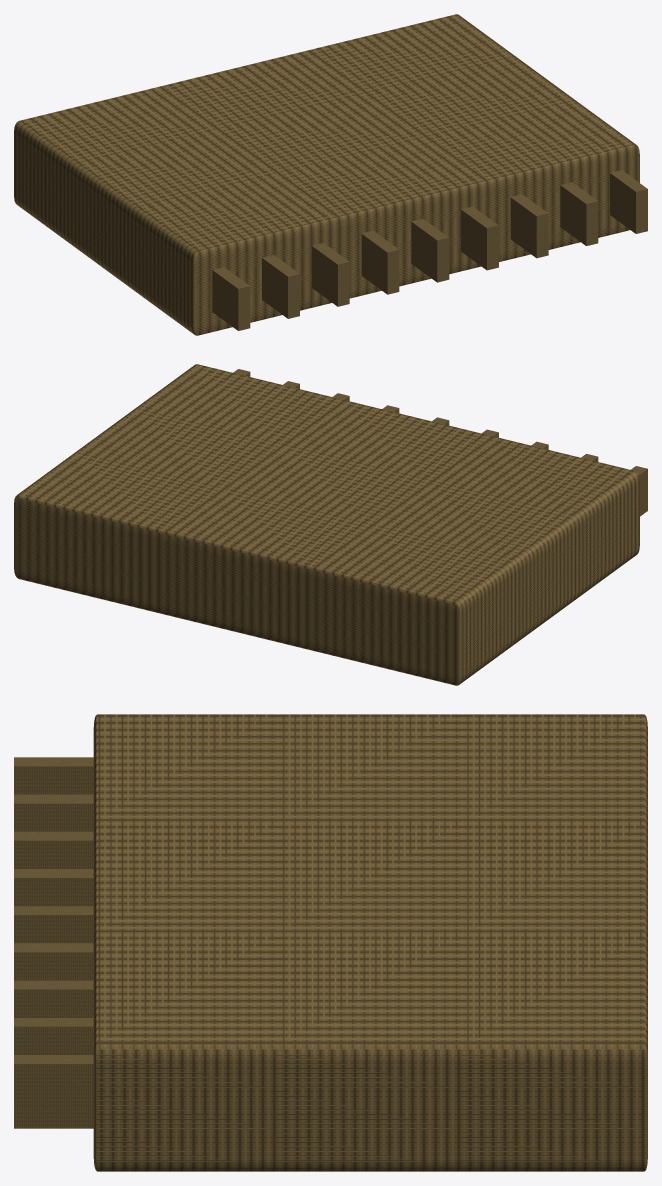
3 views of the same model, one above another, from view 1: azimuth 30°, elevation 25°; view 2: azimuth 150°, elevation 25°; view 3: azimuth 270°, elevation 25° (orthographic). The views are drawn at different scales.
Parts seen in each view (by area): view 1: d-towel; view 2: d-towel; view 3: d-towel.
Boxes of the visible parts, x1,y1,x2,y2 form: d-towel: (14,14,647,335); d-towel: (14,364,647,685); d-towel: (14,714,647,1171).
Bounding box in the file's own units: 0.25 × 0.045 × 0.2.
Materials: 1 (1 with a texture image).
